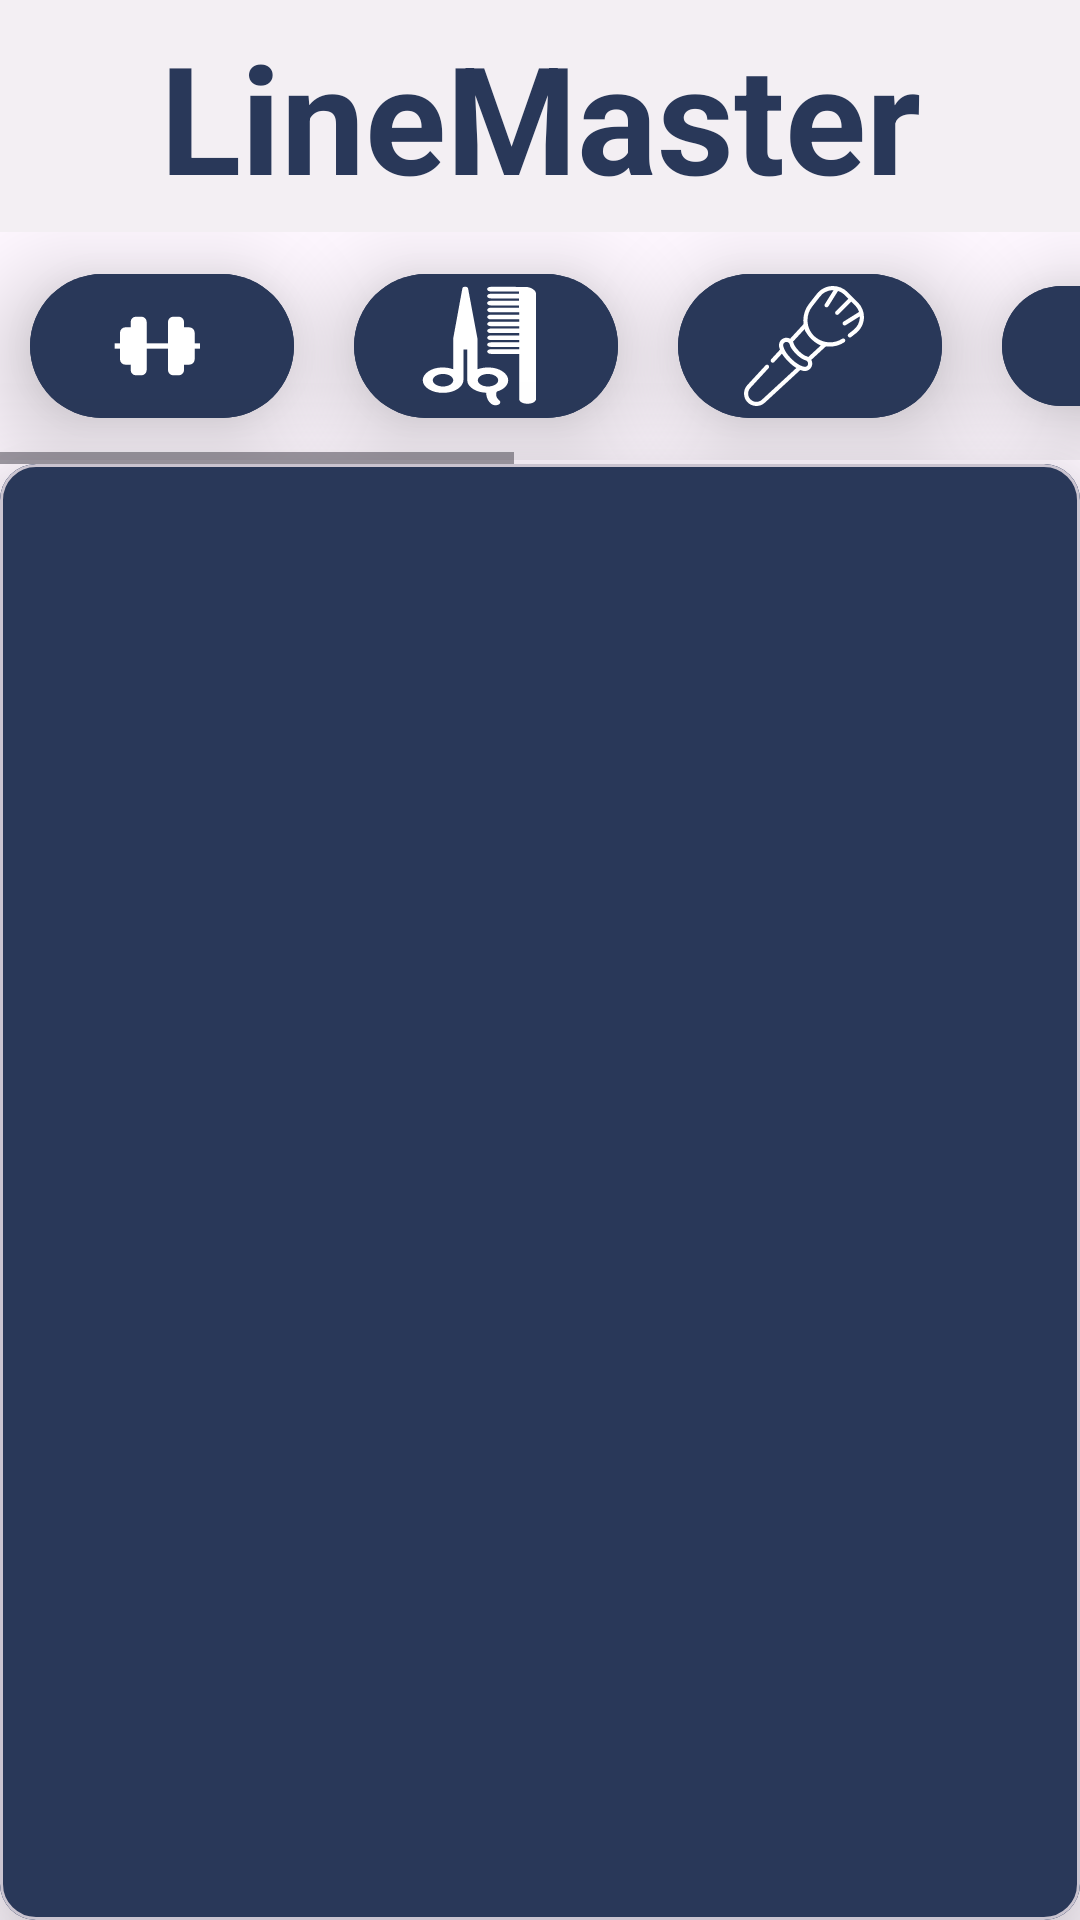

Icons on this 1080x1920 Android screen, each with the point to tap as (x=x, y=y):
brush makeup: (x=810, y=346)
gym: (x=162, y=346)
haircut tools barber: (x=486, y=346)
